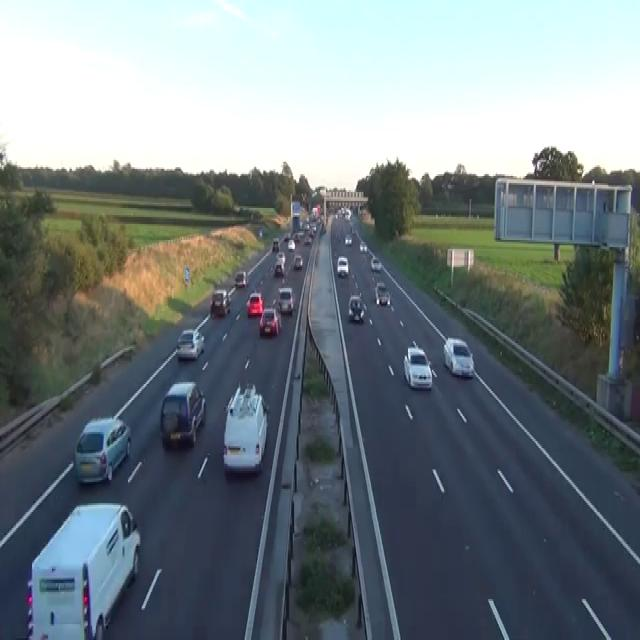Car: (222, 380, 269, 474), (73, 414, 131, 484), (160, 380, 205, 448), (403, 342, 432, 389), (443, 336, 474, 377), (176, 329, 204, 359), (209, 288, 230, 316), (259, 308, 279, 336), (348, 294, 364, 324), (277, 286, 294, 313), (246, 292, 263, 316), (374, 281, 390, 306), (274, 250, 285, 276), (336, 256, 348, 277), (234, 270, 248, 286), (370, 256, 381, 272), (293, 252, 303, 268), (276, 251, 285, 263), (359, 240, 367, 252), (344, 233, 352, 245), (272, 238, 279, 251), (287, 238, 295, 249), (292, 231, 300, 242), (344, 208, 351, 220), (310, 224, 316, 235), (304, 234, 311, 243), (283, 233, 290, 240), (321, 224, 326, 233), (340, 206, 345, 215), (317, 215, 322, 224), (351, 228, 356, 235), (259, 228, 262, 236), (334, 212, 338, 218)
Truck: (25, 502, 140, 638)
